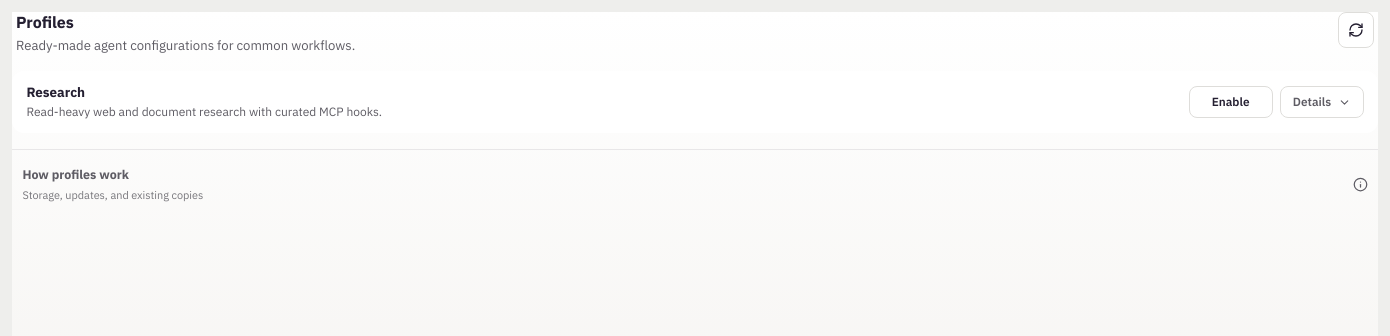
Test: ProfilesSettingsPanel › enables a profile with row-local success feedback
Check: the heading "Research" is shown, box [26,83,85,101]
Click the button "Enable": (1231, 102) [1189,86,1273,118]
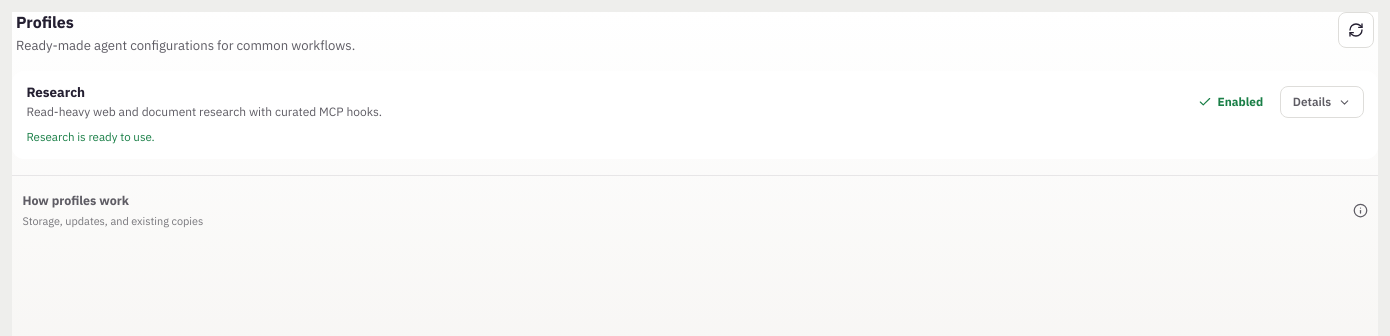
Check: the text "Research is ready to use." is shown, box [26,129,155,144]
Check: the text "Enabled" is shown, box [1198,94,1263,109]
